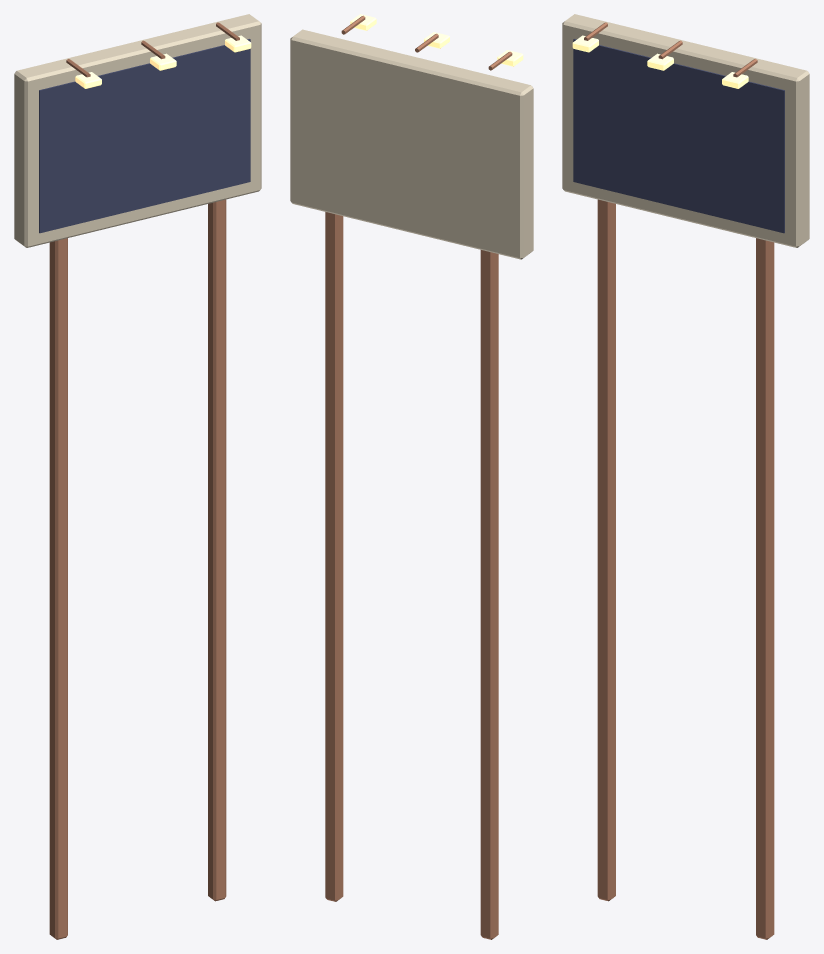
File: sf3_roadside_billboard.glb
3 renders of one model, left to right at view 1: azimuth 30°, elevation 25°; view 2: azimuth 150°, elevation 25°; view 3: azimuth 330°, elevation 25°, orthographic.
Visible parts, largest first — view 1: sf3_roadside_billboard__sf3-midnight-indigo, sf3_roadside_billboard__sf3-burnished-copper, sf3_roadside_billboard__sf3-warm-ivory, sf3_roadside_billboard__sf3-warm-window; view 2: sf3_roadside_billboard__sf3-warm-ivory, sf3_roadside_billboard__sf3-burnished-copper, sf3_roadside_billboard__sf3-warm-window; view 3: sf3_roadside_billboard__sf3-midnight-indigo, sf3_roadside_billboard__sf3-burnished-copper, sf3_roadside_billboard__sf3-warm-ivory, sf3_roadside_billboard__sf3-warm-window.
Boxes of the visible parts, left/top/right/bottom form: sf3_roadside_billboard__sf3-midnight-indigo: left=39, top=39, right=250, bottom=233; sf3_roadside_billboard__sf3-burnished-copper: left=49, top=22, right=239, bottom=939; sf3_roadside_billboard__sf3-warm-ivory: left=14, top=14, right=261, bottom=247; sf3_roadside_billboard__sf3-warm-window: left=75, top=35, right=251, bottom=88; sf3_roadside_billboard__sf3-warm-ivory: left=290, top=29, right=533, bottom=259; sf3_roadside_billboard__sf3-burnished-copper: left=325, top=15, right=512, bottom=939; sf3_roadside_billboard__sf3-warm-window: left=350, top=14, right=523, bottom=66; sf3_roadside_billboard__sf3-midnight-indigo: left=573, top=39, right=784, bottom=233; sf3_roadside_billboard__sf3-burnished-copper: left=584, top=22, right=774, bottom=939; sf3_roadside_billboard__sf3-warm-ivory: left=562, top=14, right=809, bottom=247; sf3_roadside_billboard__sf3-warm-window: left=572, top=35, right=748, bottom=88.
Bounding box in the file's own units: 5.4 × 19.15 × 1.45.
